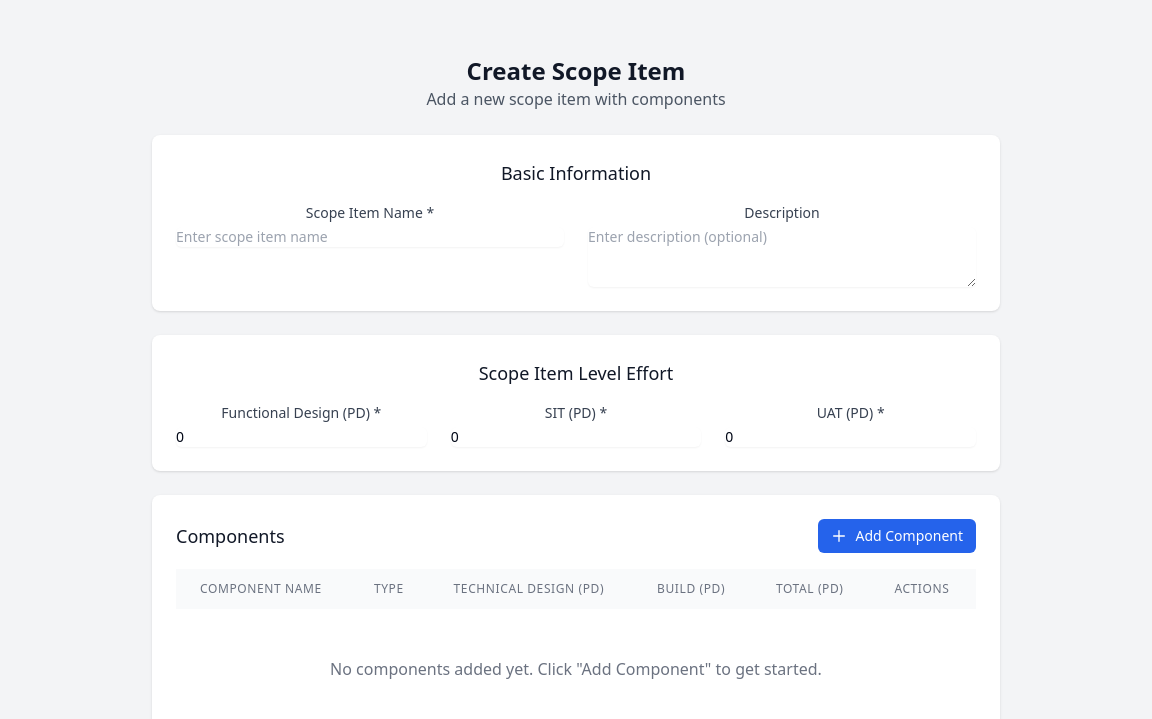
Scenario: ScopeItemForm › Form Validation › should show error when no components are added
Step 1. Type "Test Item" into the field labelled "Scope Item Name *" → coordinates (370, 237), box x1=176 y1=227 x2=564 y2=247
(page scrolled)
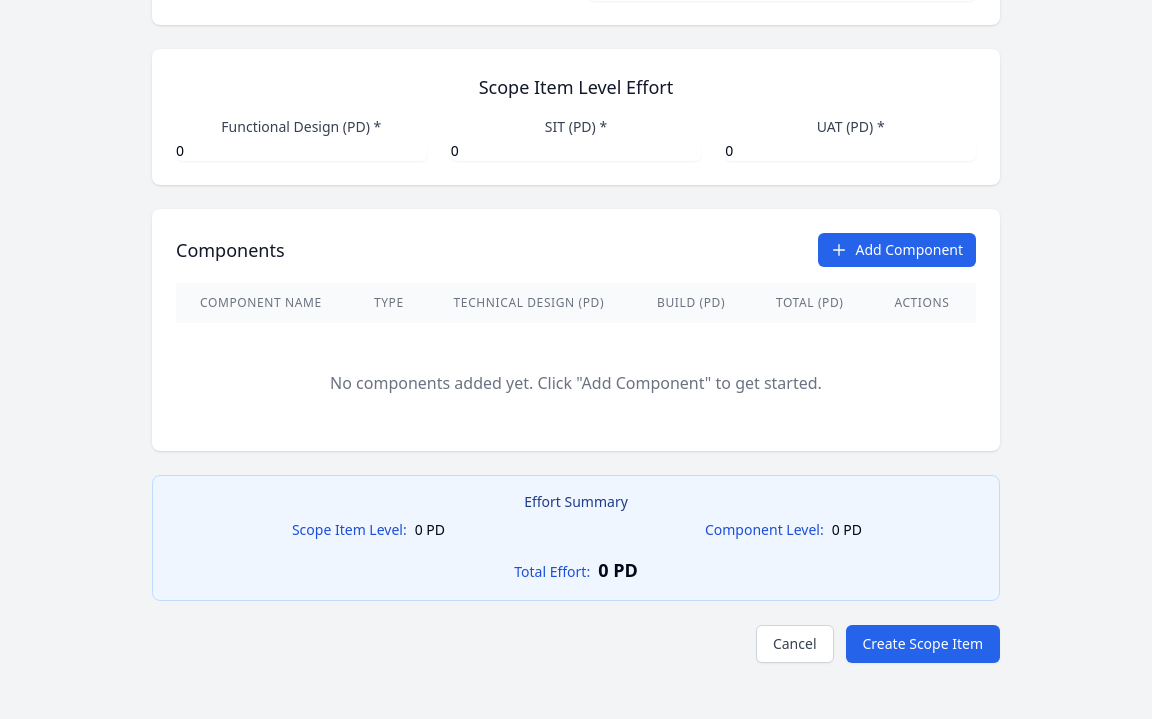
Step 2. Click the button "Create Scope Item" → coordinates (923, 644), box x1=846 y1=625 x2=1000 y2=663
(page scrolled)
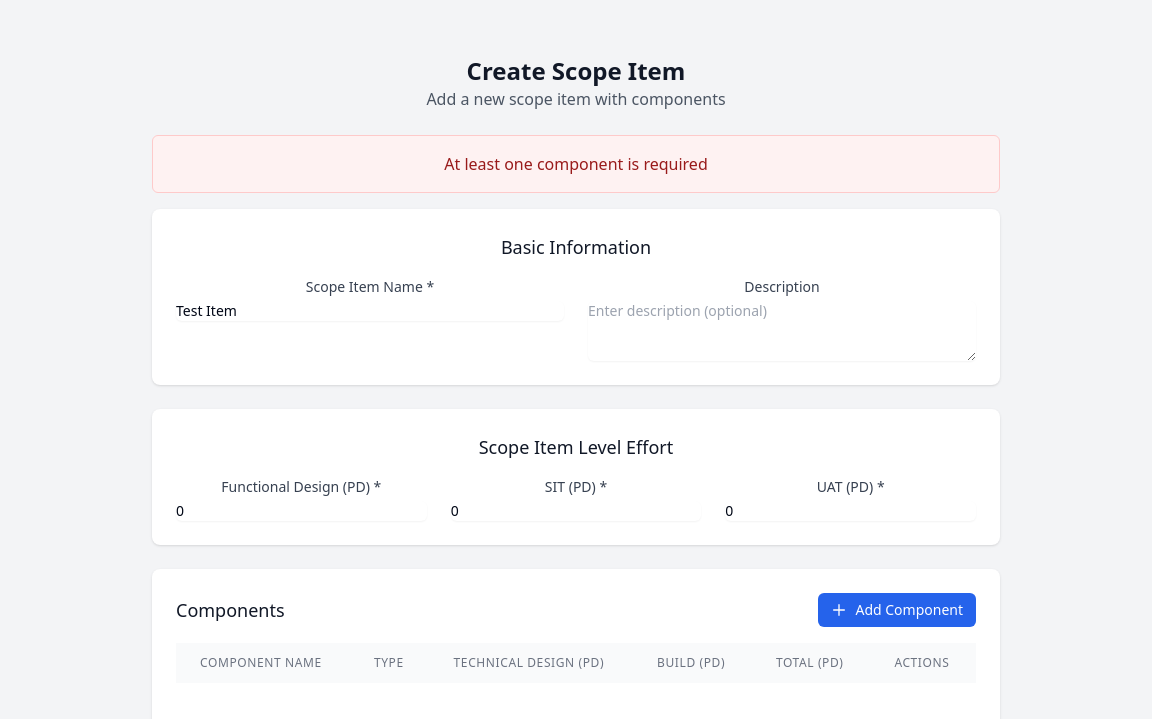
Expected: the text "At least one component is required" is shown, x1=444 y1=153 x2=708 y2=175
